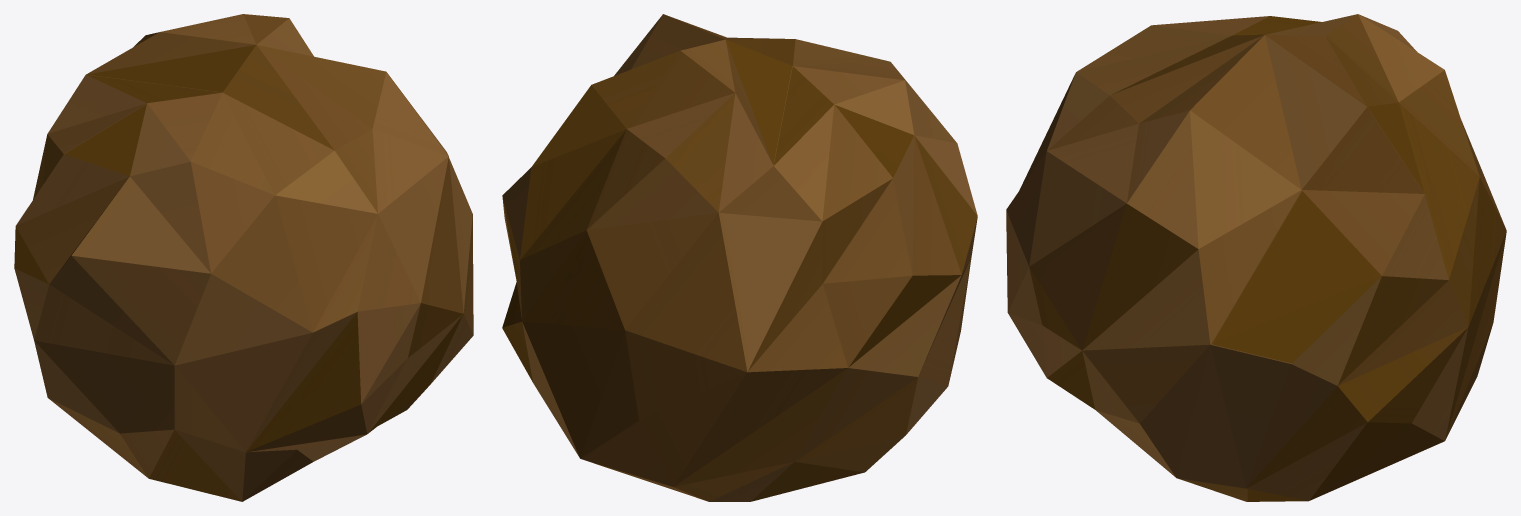
Rendered from small rock_brown v2.fbx.
The picture shows the model from 3 angles, left to right: view 1: azimuth 30°, elevation 25°; view 2: azimuth 150°, elevation 25°; view 3: azimuth 270°, elevation 25°; orthographic projection. The views are drawn at different scales.
Visible parts, largest first — view 1: Landscape; view 2: Landscape; view 3: Landscape.
Part boxes in pixels (x1,y1,x2,y2): Landscape: (14,14,473,501); Landscape: (502,14,977,501); Landscape: (1006,14,1506,501).
Size of the model in its own units: 230 by 221 by 224.
